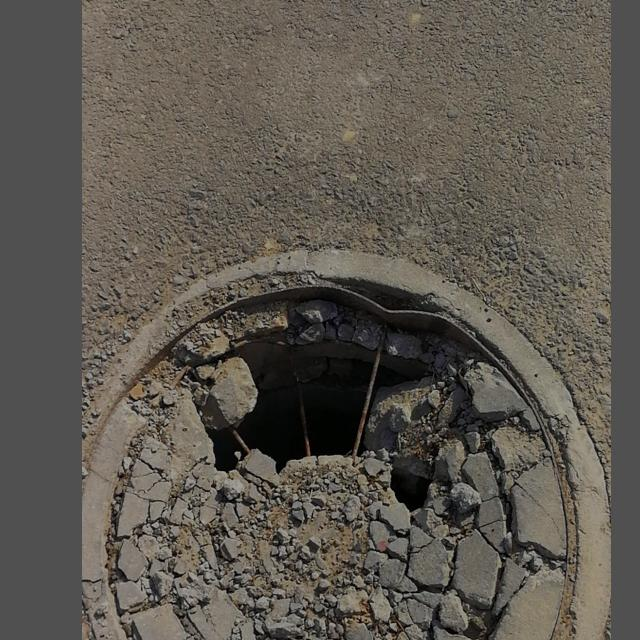broke: (81, 253, 611, 640)
